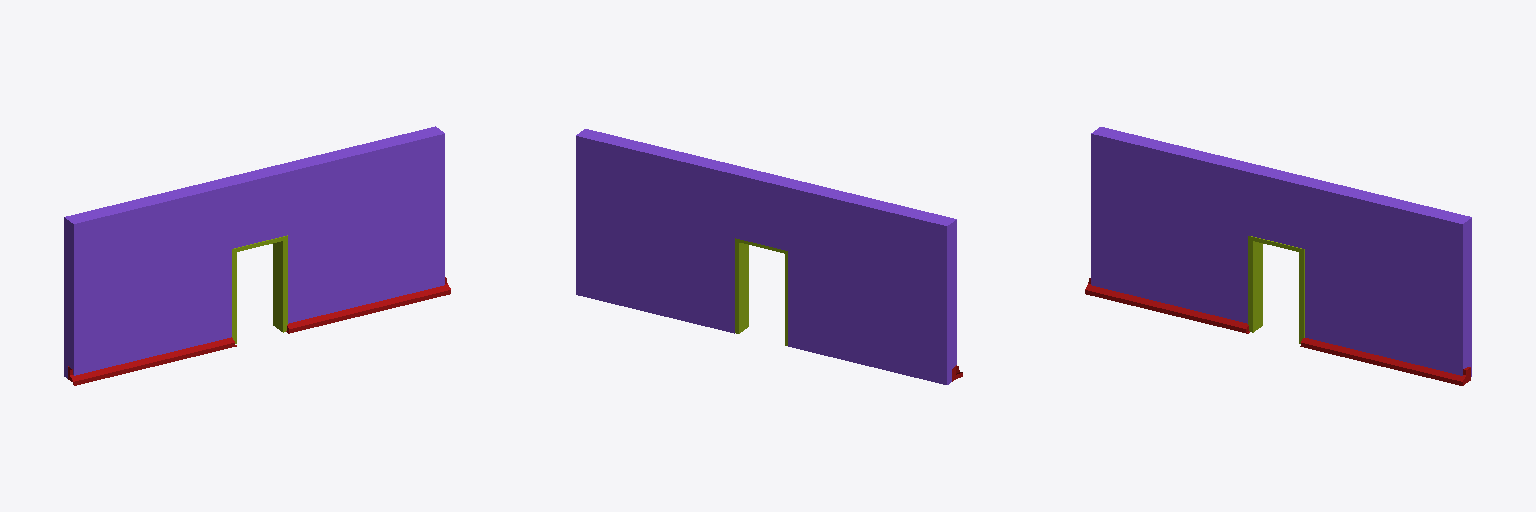
Rendered from wall_door.obj.
The picture shows the model from 3 angles: view 1: azimuth 30°, elevation 25°; view 2: azimuth 150°, elevation 25°; view 3: azimuth 330°, elevation 25°; orthographic projection.
Visible parts, largest first — view 1: Door_Wall001, Floor_Border_Door, Door_Border; view 2: Door_Wall001, Door_Border; view 3: Door_Wall001, Floor_Border_Door, Door_Border.
Part boxes in pixels (x1,y1,x2,y2): Door_Wall001: (64, 126, 444, 378); Floor_Border_Door: (68, 277, 450, 385); Door_Border: (232, 235, 287, 343); Door_Wall001: (576, 129, 956, 384); Door_Border: (735, 238, 787, 345); Door_Wall001: (1091, 127, 1471, 376); Floor_Border_Door: (1085, 278, 1470, 385); Door_Border: (1248, 236, 1304, 343).
Bounding box in the file's own units: 92.34 × 37.16 × 5.37.